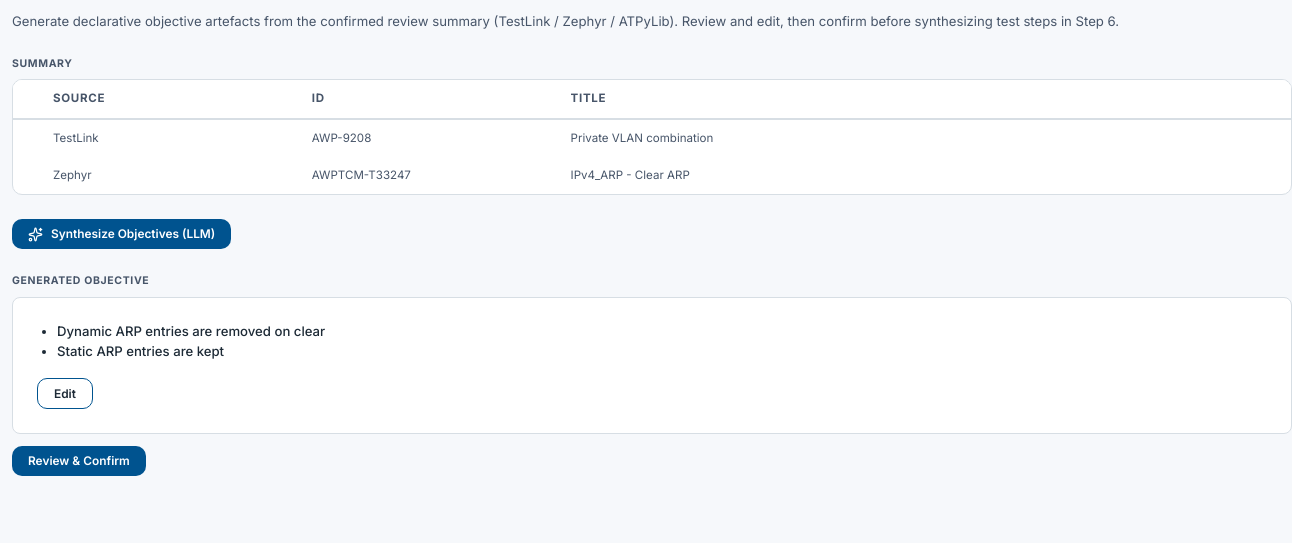
Test case: OgObjectives › editing › hides Review & Confirm while editing
The image size is (1292, 543).
Click the button "Edit" at (65, 393), box [37, 378, 93, 409]
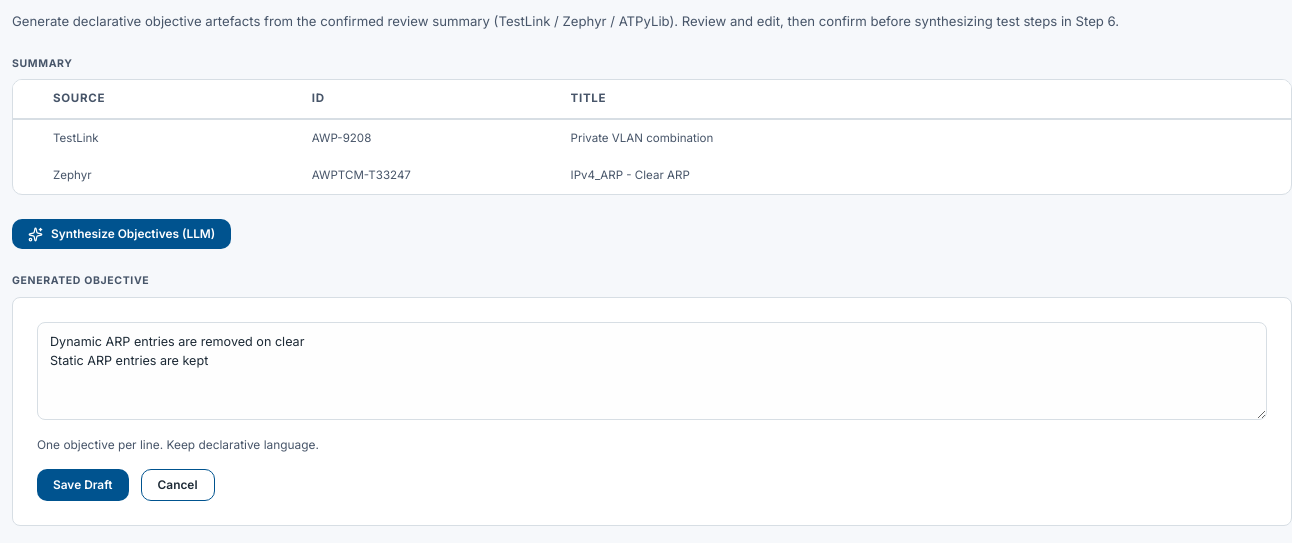
Result: the button "Review & Confirm" is gone
